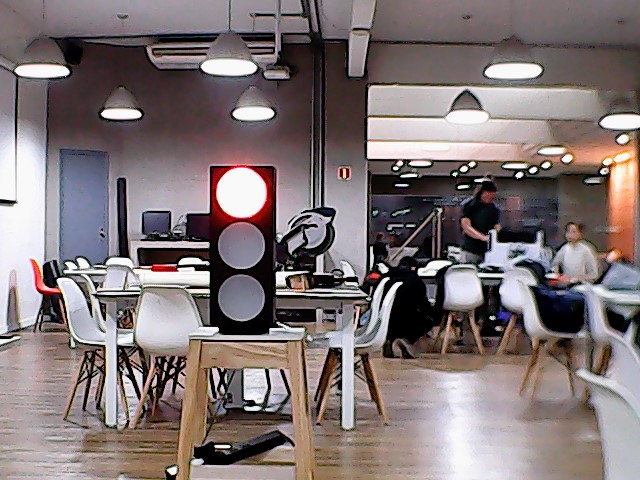vermelho: (200, 162, 281, 333)
